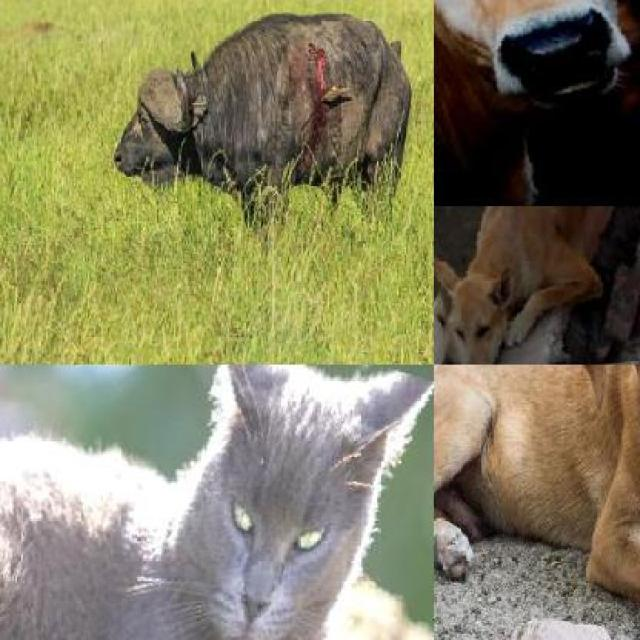buffalo: (107, 31, 413, 229)
cat: (0, 364, 434, 640)
cow: (434, 0, 640, 206)
dog: (434, 364, 640, 640), (434, 206, 640, 365)
injured: (288, 30, 354, 185)
